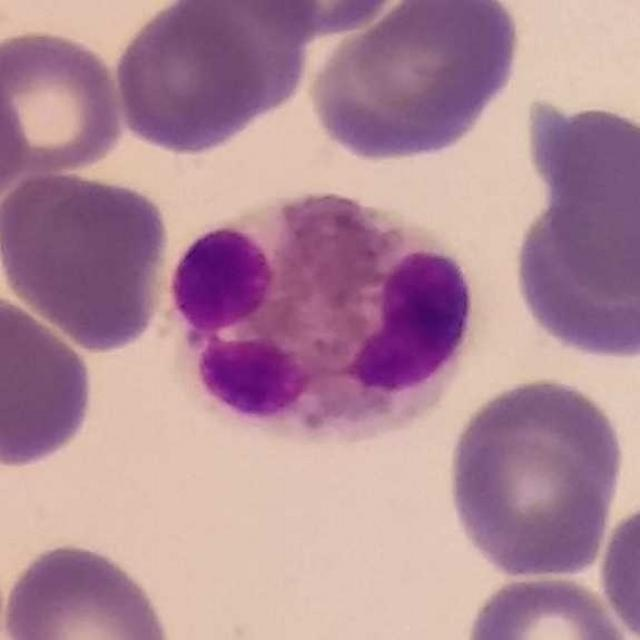eosino: (170, 192, 474, 447)
